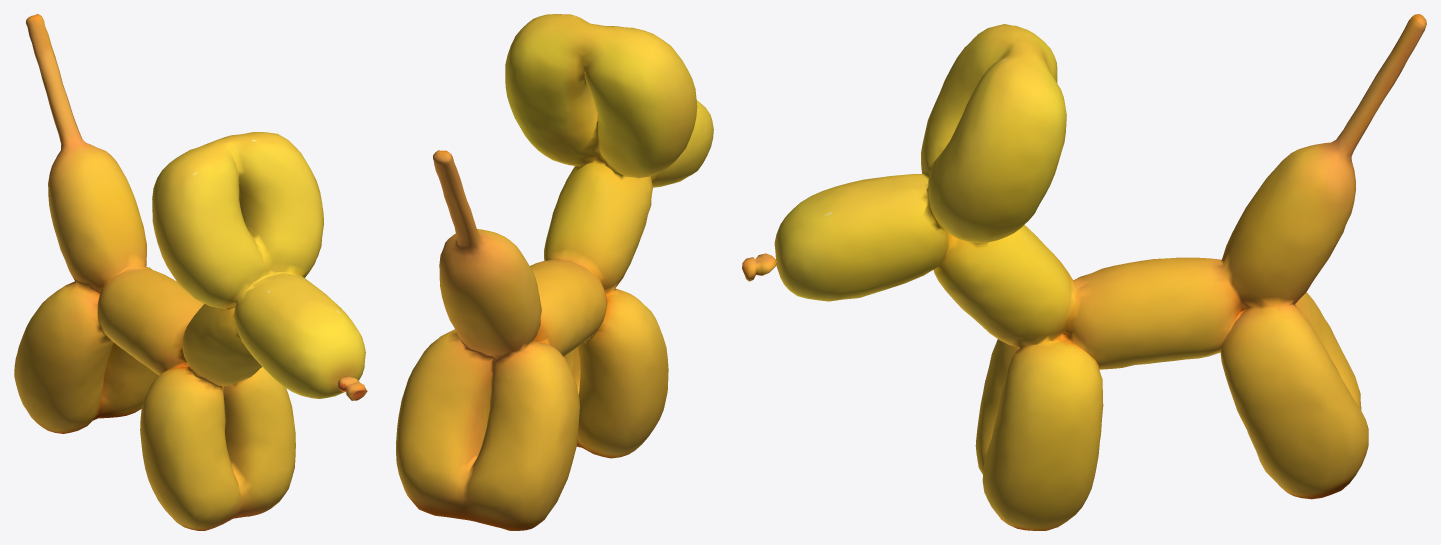
The model's file is yellow-dog-balloon-ani.glb.
3 renders of one model, left to right at view 1: azimuth 30°, elevation 25°; view 2: azimuth 150°, elevation 25°; view 3: azimuth 270°, elevation 25°, orthographic. The views are drawn at different scales.
Visible parts, largest first — view 1: Mesh_0.004; view 2: Mesh_0.004; view 3: Mesh_0.004.
Boxes of the visible parts, left/top/right/bottom form: Mesh_0.004: left=14, top=14, right=367, bottom=530; Mesh_0.004: left=396, top=14, right=713, bottom=530; Mesh_0.004: left=742, top=14, right=1426, bottom=530.
Bounding box in the file's own units: 0.6297 × 1.4 × 1.82.
1 material, 1 textured.
